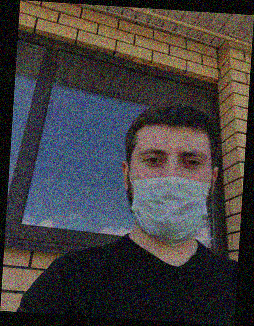with_mask: (129, 140, 210, 247)
